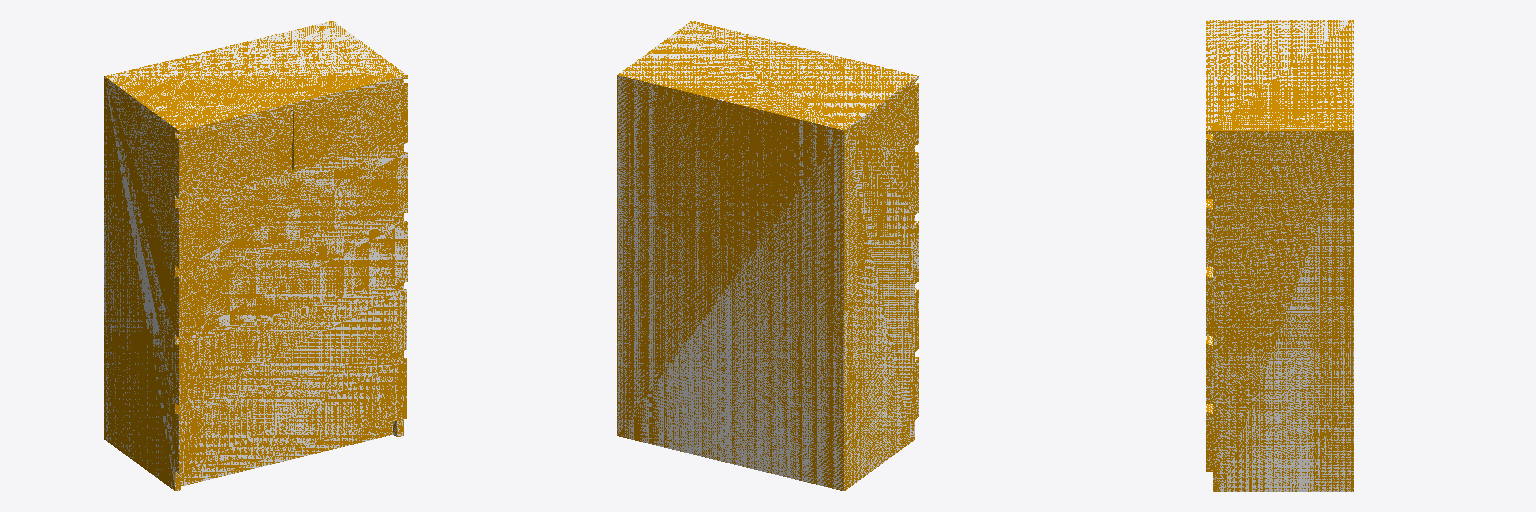
The robot description file, URDF, robot "my_object":
<?xml version="1.0" ?> 
<robot name="my_object" static="true">
  <link name="base_link">
  <inertial>
    <mass value="1.0" />
    <origin xyz="0 0 0.0" />
    <inertia ixx="1.0" ixy="0.0" ixz="0.0" iyy="1.0" iyz="0.0" izz="1.0"/>
  </inertial>
  <visual>
   <origin xyz="0 0 0.0" rpy="0 0 0" />
   <geometry>
     <mesh filename="package://cob_gazebo_objects/Media/models/Kommode_Malm_hoch.dae"/>
   </geometry>
  </visual>
  <collision>
   <origin xyz="0 0 0.615" rpy="0 0 0" />
   <geometry>
     <box size="0.80 0.47 1.23" />
   </geometry>
  </collision>     
  </link>

<gazebo>
	<static>true</static>
</gazebo>
</robot>

--- Facts derived from the render (not from the file) ---
The picture shows the robot from 3 angles, left to right: view 1: azimuth 30°, elevation 25°; view 2: azimuth 150°, elevation 25°; view 3: azimuth 270°, elevation 25°; orthographic projection.
Robot: my_object — 1 links, 0 joints (none); root link base_link; default pose: every joint at zero.
Links seen in each view (by area): view 1: base_link; view 2: base_link; view 3: base_link.
Link boxes in pixels (x1=…): base_link: x1=104, y1=21, x2=407, y2=490; base_link: x1=617, y1=21, x2=918, y2=490; base_link: x1=1206, y1=20, x2=1353, y2=491.
Size in the robot's own frame: 0.0206 by 0.0117 by 0.0312 metres.
Meshes: 1 distinct files referenced, 1 mesh visuals loaded (1 Collada DAE).